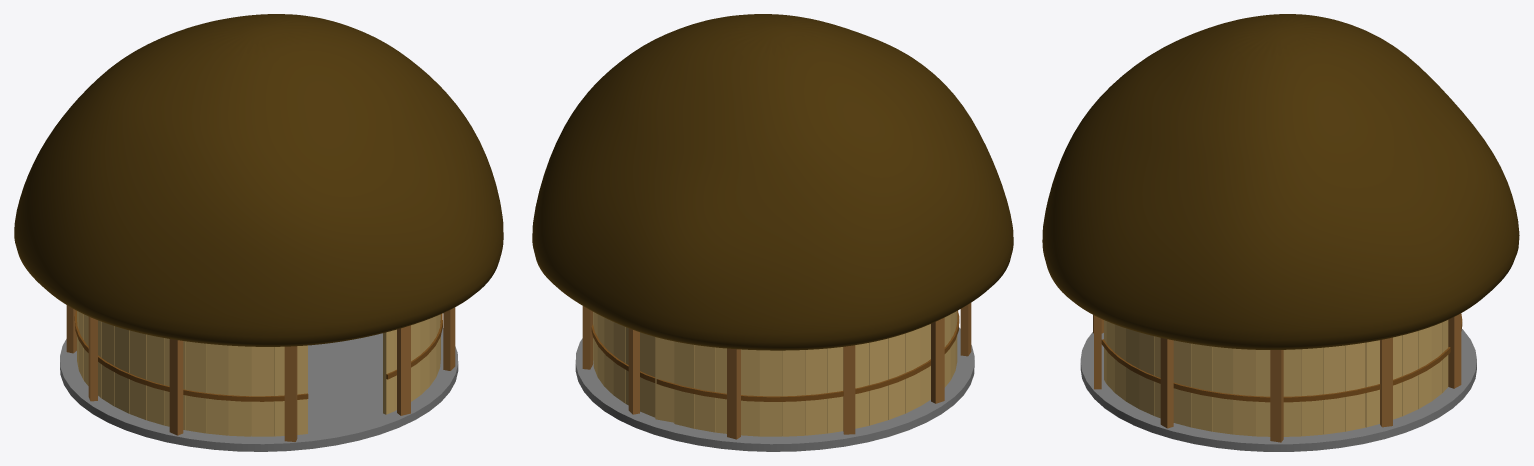
File: PAPUA.fbx
3 views of the same model, side by side, from view 1: azimuth 30°, elevation 25°; view 2: azimuth 150°, elevation 25°; view 3: azimuth 270°, elevation 25° (orthographic).
Visible parts, largest first — view 1: Sphere, Cube, Circle, Cube.001, Circle.001; view 2: Sphere, Cube, Circle, Cube.001, Circle.001; view 3: Sphere, Cube, Circle, Cube.001, Circle.001.
Part boxes in pixels (<box>): Sphere: <box>14,14,503,346</box>; Cube: <box>77,311,440,436</box>; Circle: <box>60,328,458,451</box>; Cube.001: <box>66,305,455,441</box>; Circle.001: <box>74,310,442,401</box>; Sphere: <box>532,14,1013,350</box>; Cube: <box>593,311,957,436</box>; Circle: <box>575,327,974,451</box>; Cube.001: <box>582,303,971,439</box>; Circle.001: <box>591,310,959,401</box>; Sphere: <box>1042,14,1519,349</box>; Cube: <box>1104,320,1448,436</box>; Circle: <box>1080,329,1476,451</box>; Cube.001: <box>1093,313,1461,442</box>; Circle.001: <box>1101,314,1462,402</box>.
Size of the model in its own units: 808 by 619 by 794.
